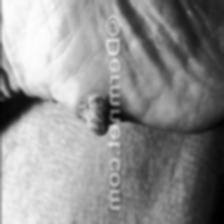Potentially Malignant Skin Tumors: (72, 92, 114, 144)
